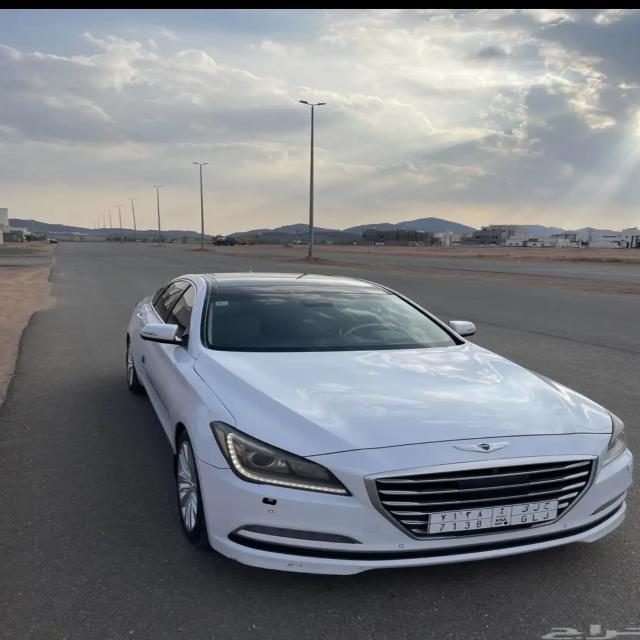license_plate: (428, 499, 558, 534)
